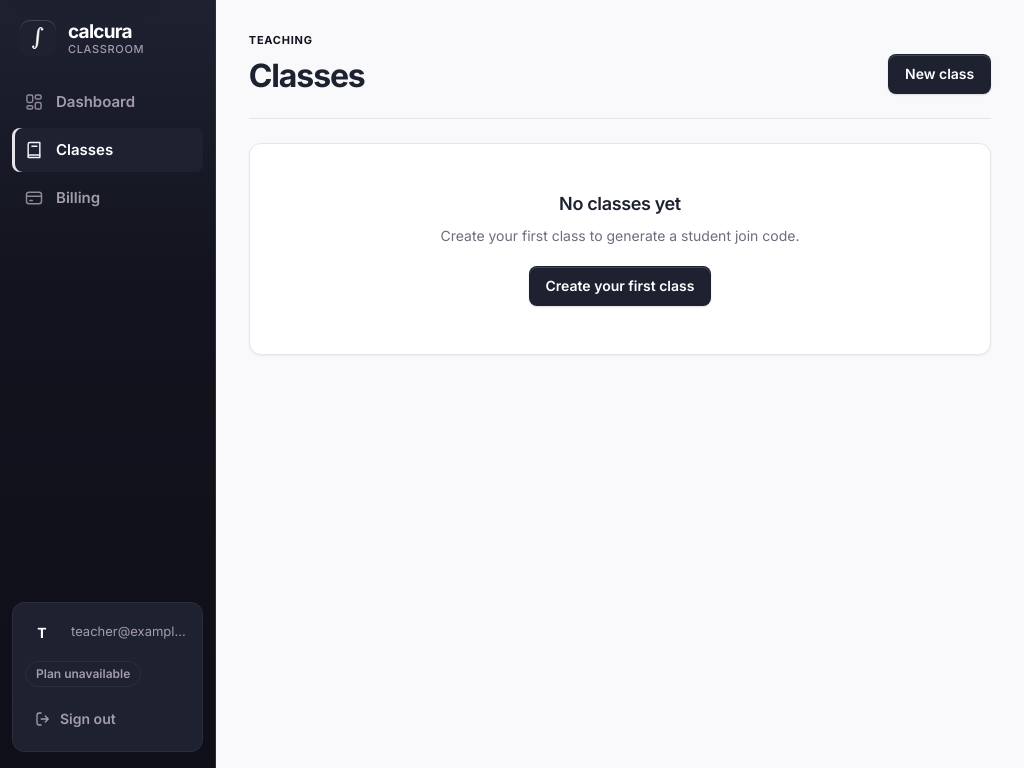
Scenario: teacher class management routes › prevents a duplicate create request while the first submission is pending
The image size is (1024, 768).
Click the button "Create your first class": (620, 286) [528,266,711,306]
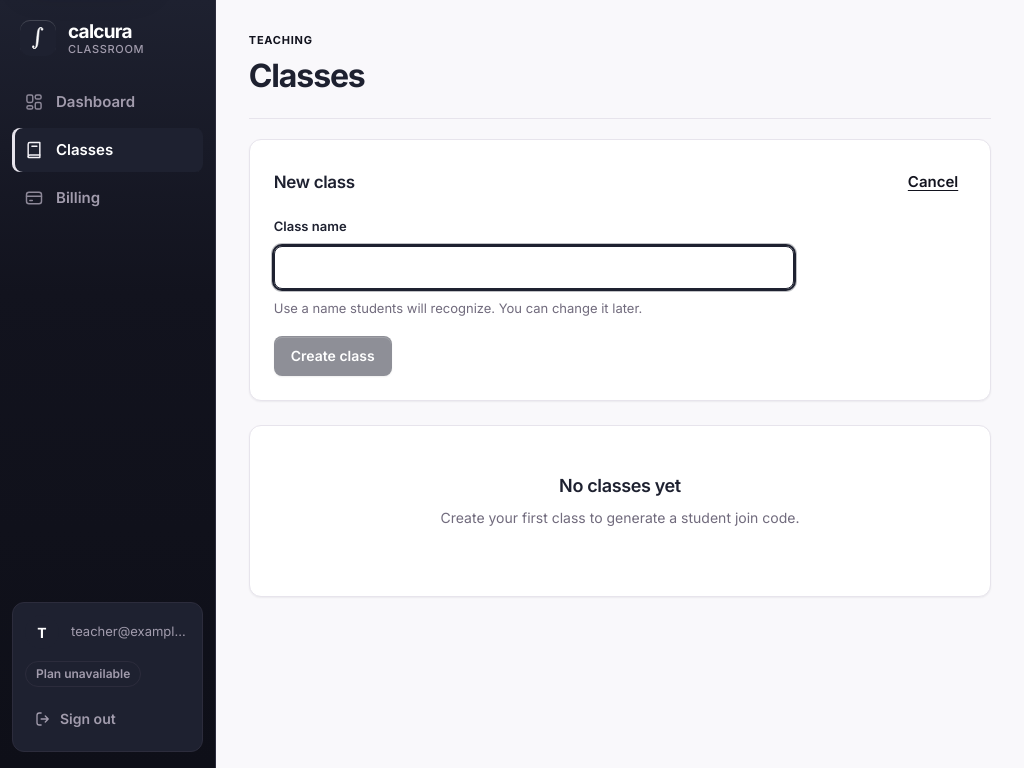
In the field labelled "Class name": (534, 268) [274,246,794,289], type "Chemistry"
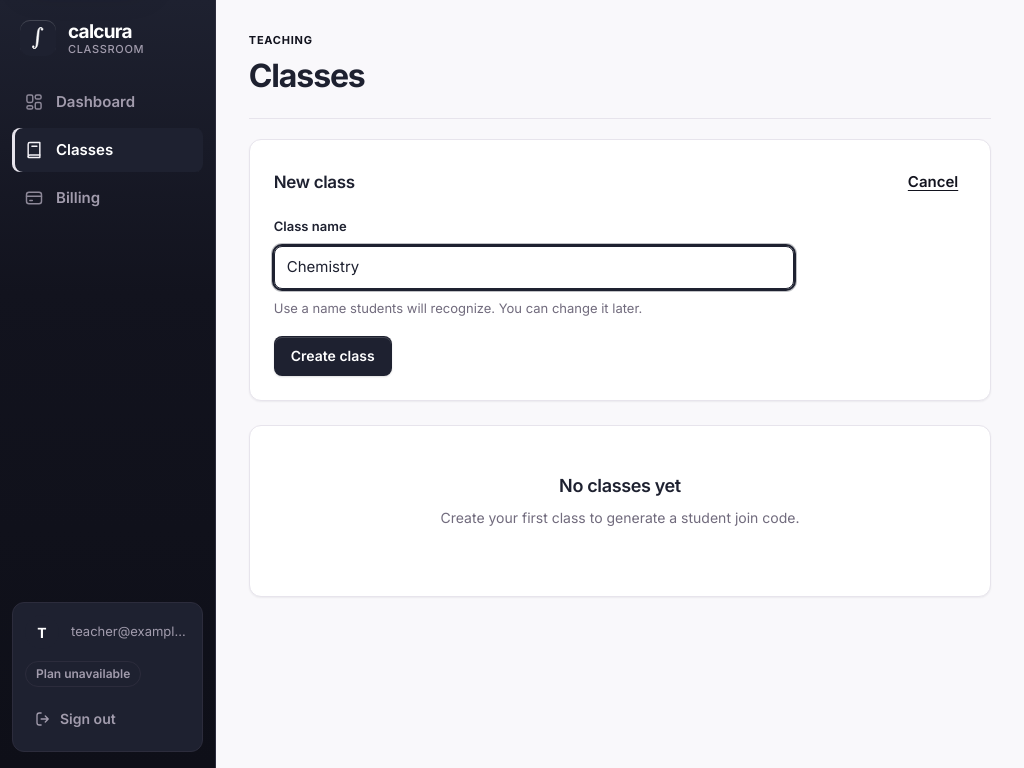
Click the button "Create class": (333, 356) [274,336,392,376]
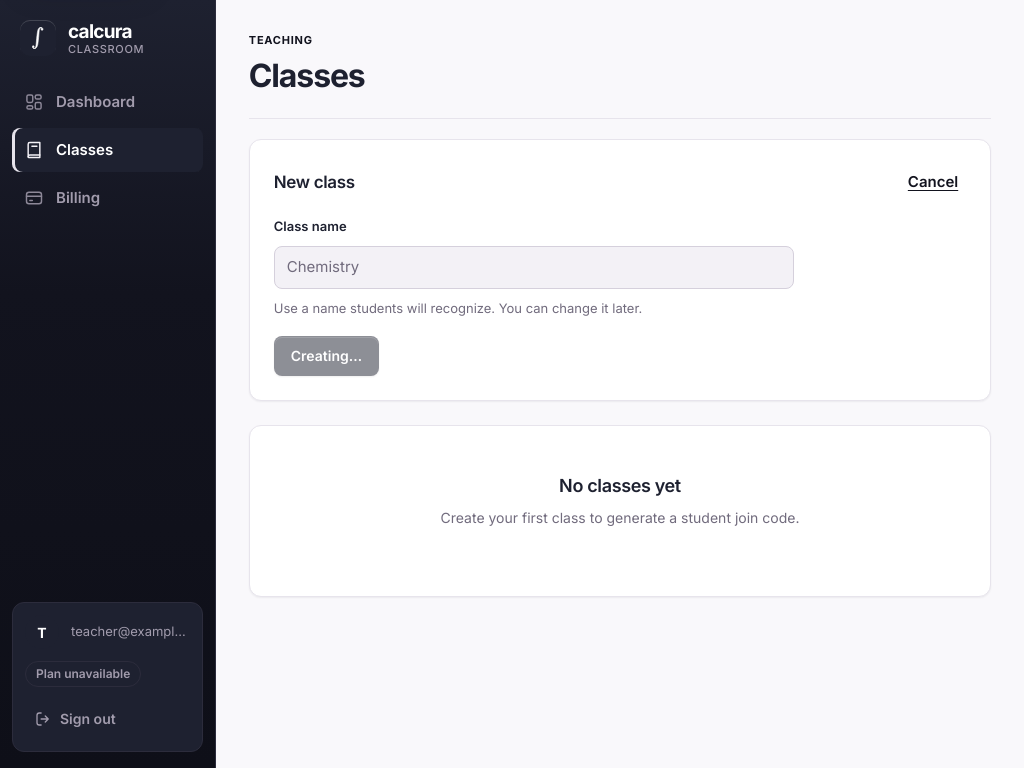
Click the button named "Create class": (326, 356) [274,336,379,376]
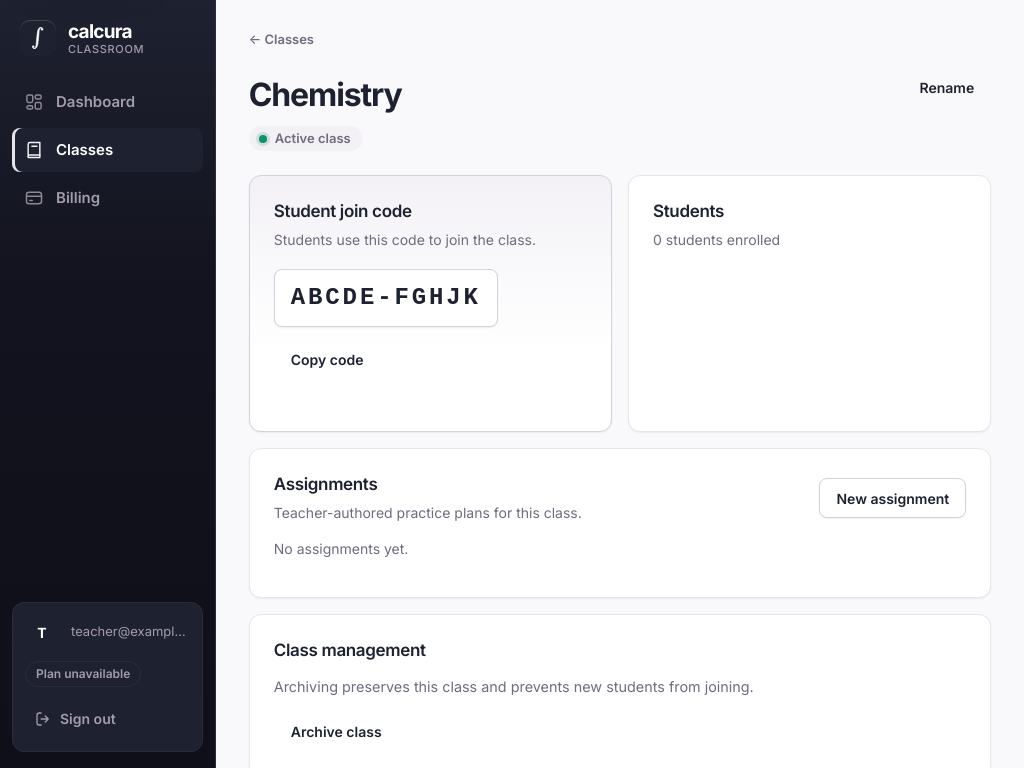
Expected: the heading "Chemistry" is shown, [249,76,402,114]
